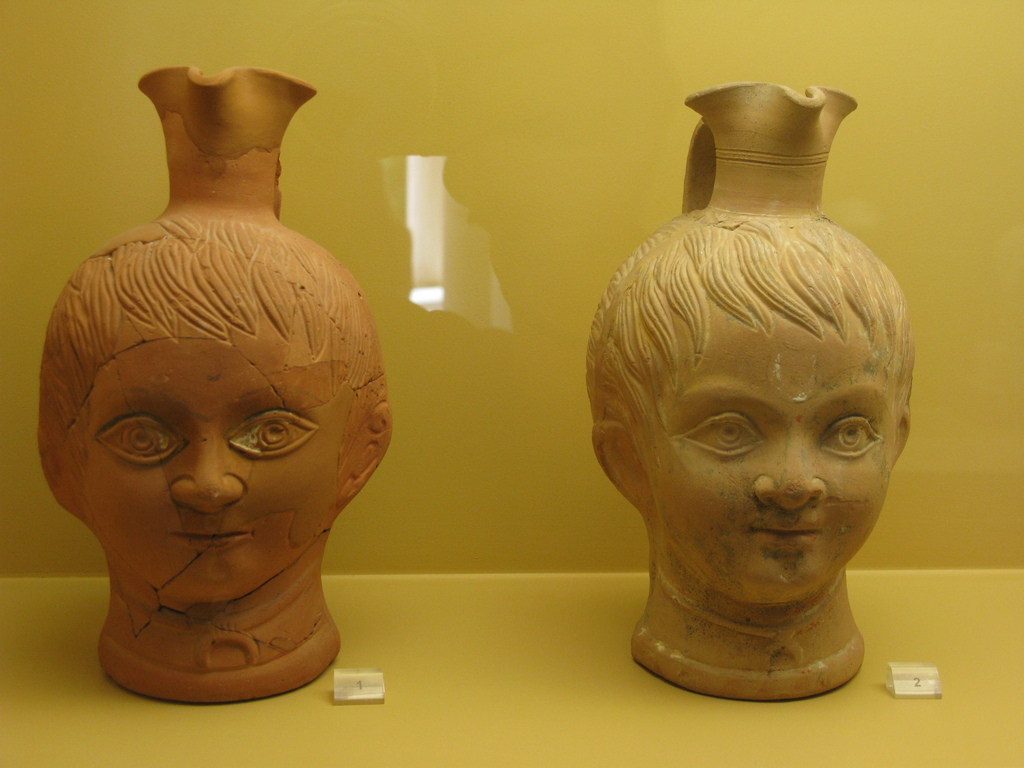Person: (36, 63, 394, 703), (582, 84, 912, 703)
